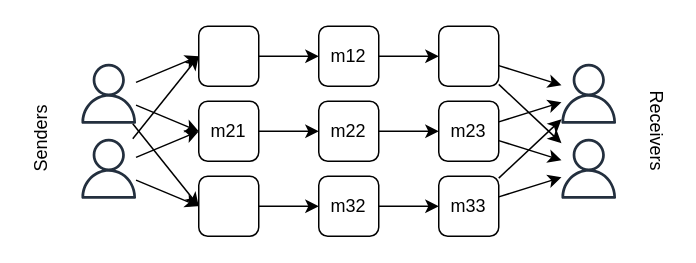
The diagram is 696 pixels wide and 263 high, and some of its shapes have lost their labels. Here are the shapes that lost their labels. From the top down, the centre of each, then its label:
At pixel 228 55: "m11".
At pixel 468 55: "m13".
At pixel 228 205: "m31".
